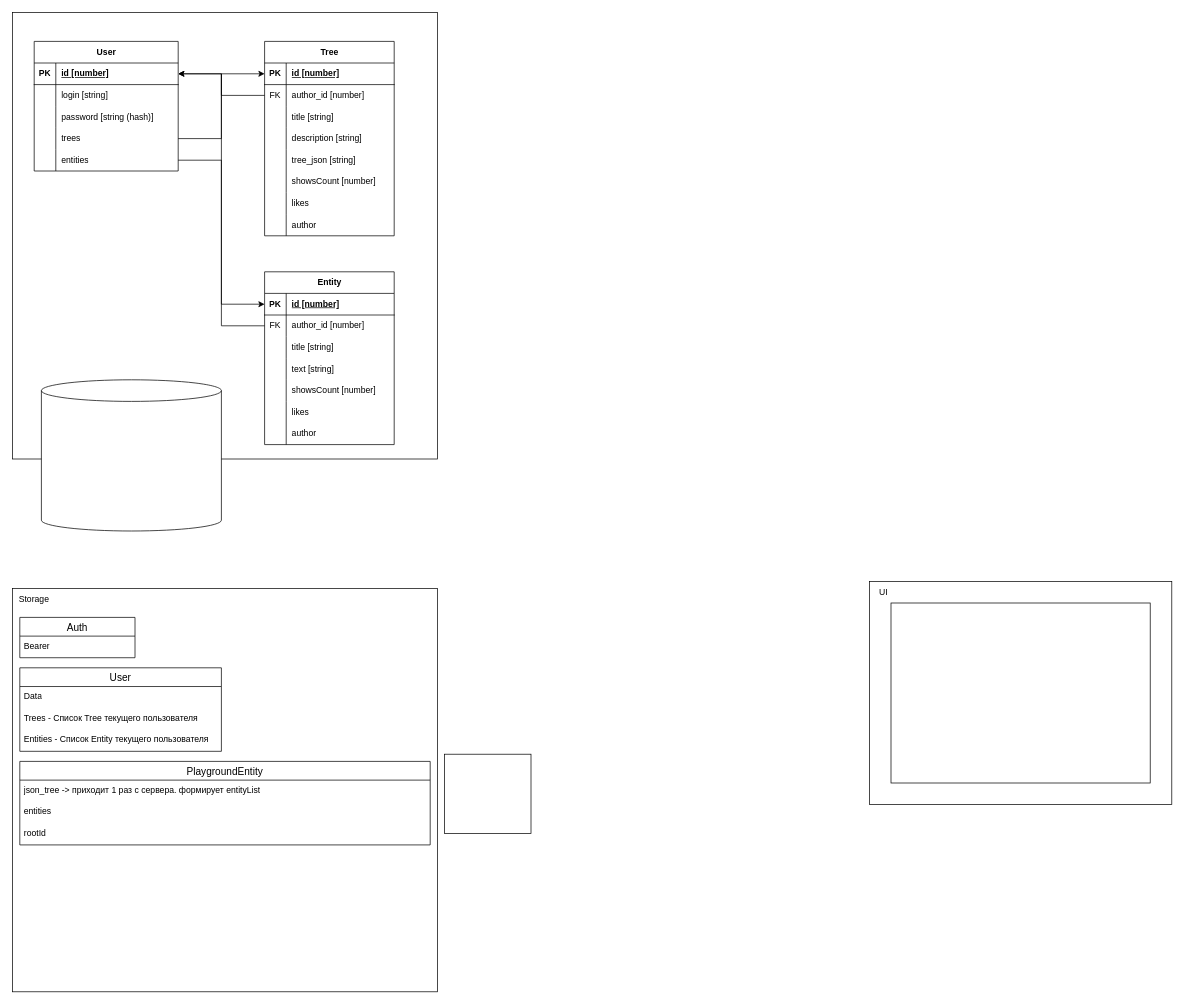
Image size: 1184x1004. Some labels were removed from this diagram. Each missing label, with the centre of its shape:
DB: point (131, 455)
Playground: point (1020, 692)
{ id: { data, points: id[] } }: point (487, 793)
